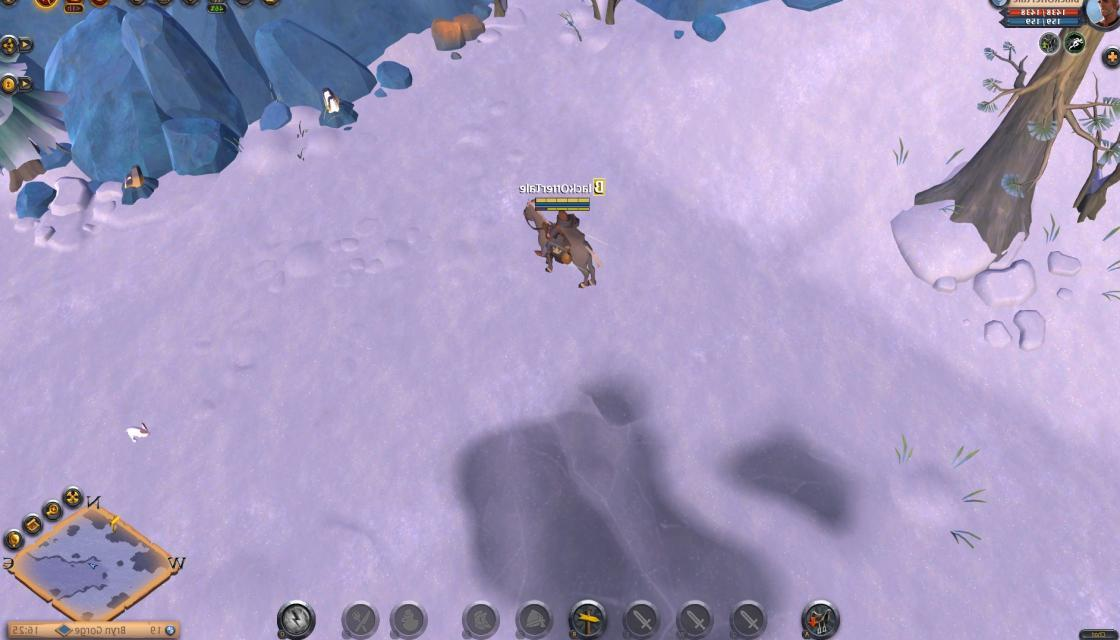copperore: (314, 86, 358, 130), (117, 162, 161, 206)
limestone: (426, 8, 490, 54)
